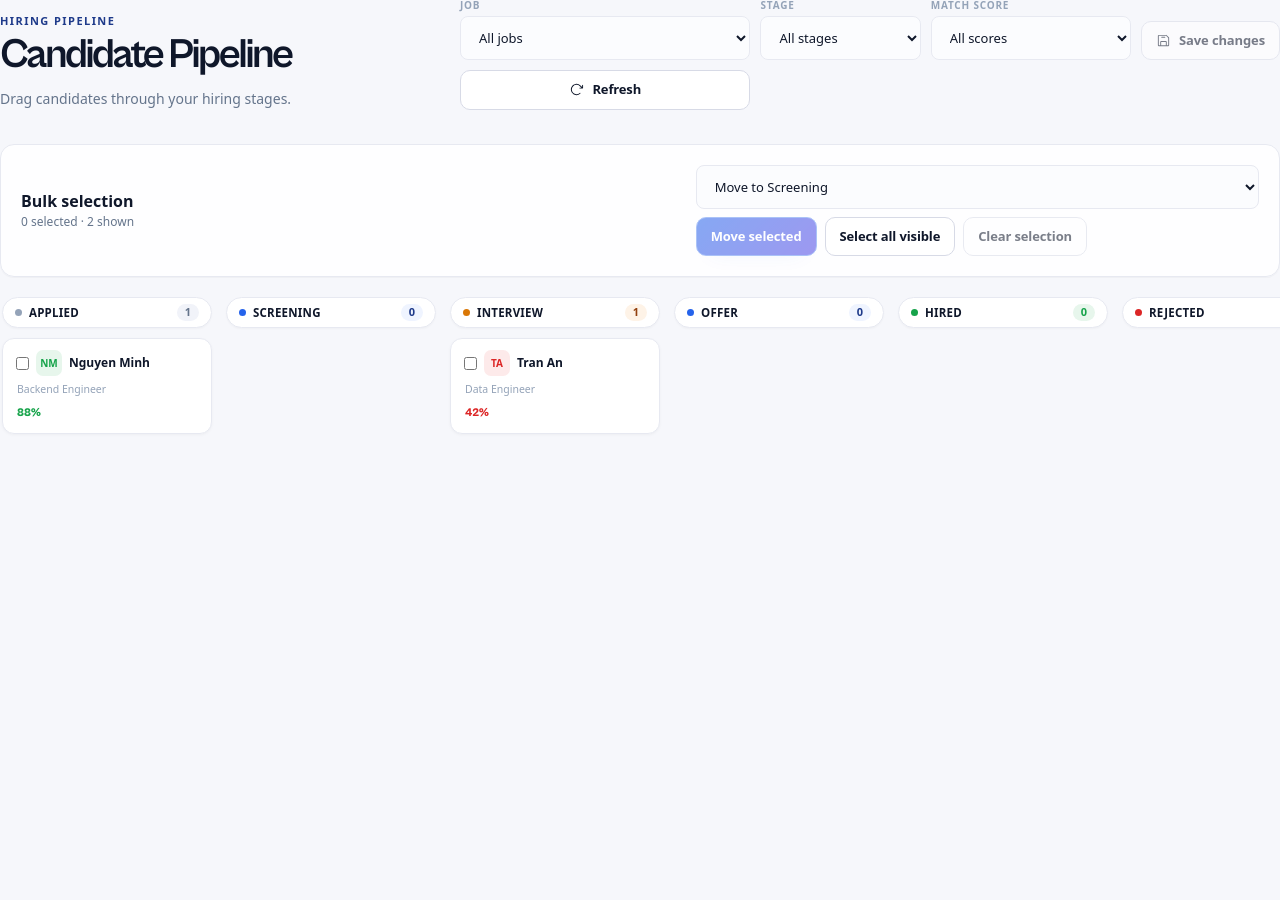
it: PipelineScreen › adds a recruiter note and updates the visible activity
Click the button "NM Nguyen Minh Backend Engineer 88%" at {"x": 107, "y": 386}, box [2,338,212,434]
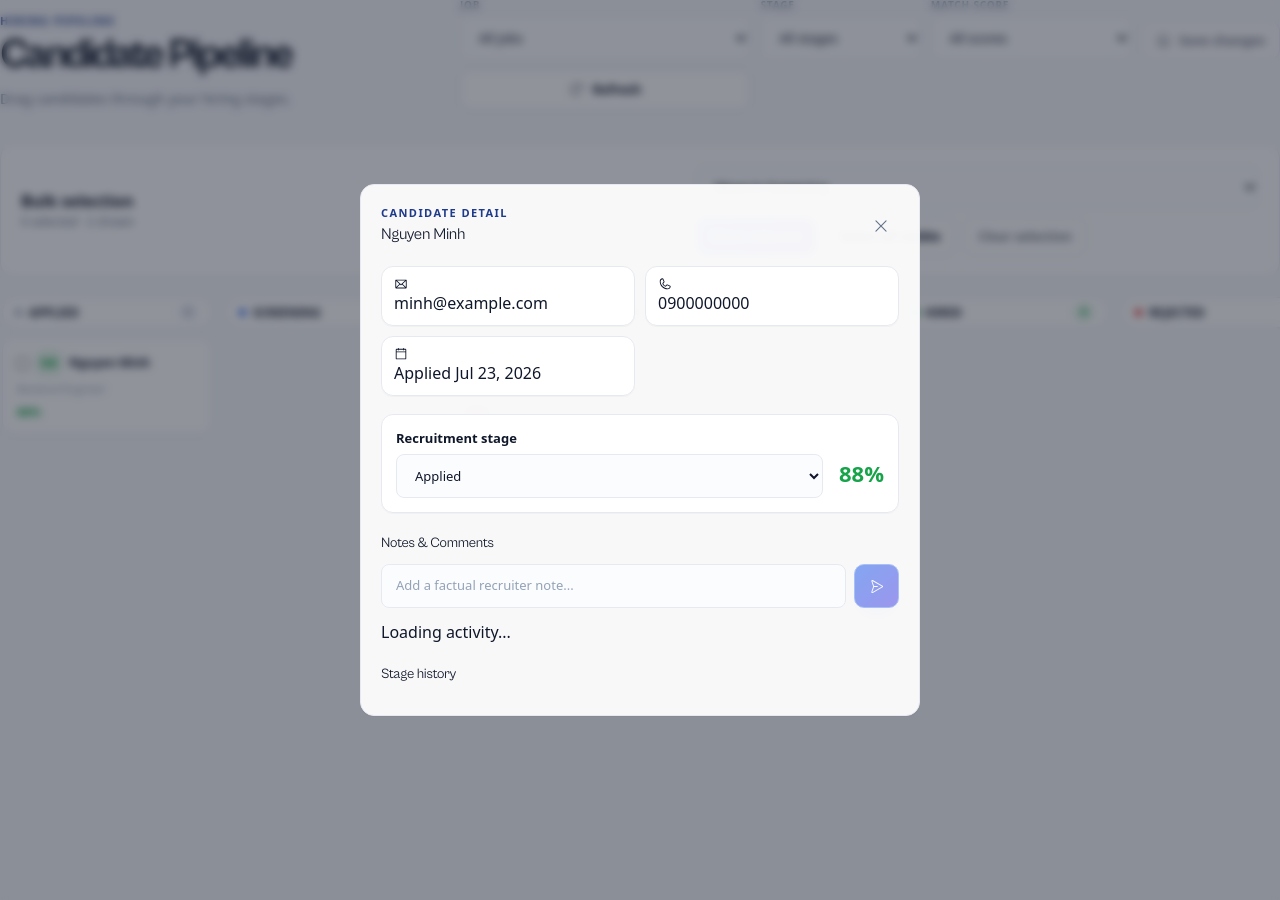
Type "Schedule a technical interview." into the field with placeholder "Add a factual recruiter note..." at {"x": 614, "y": 586}, box [381,564,846,608]
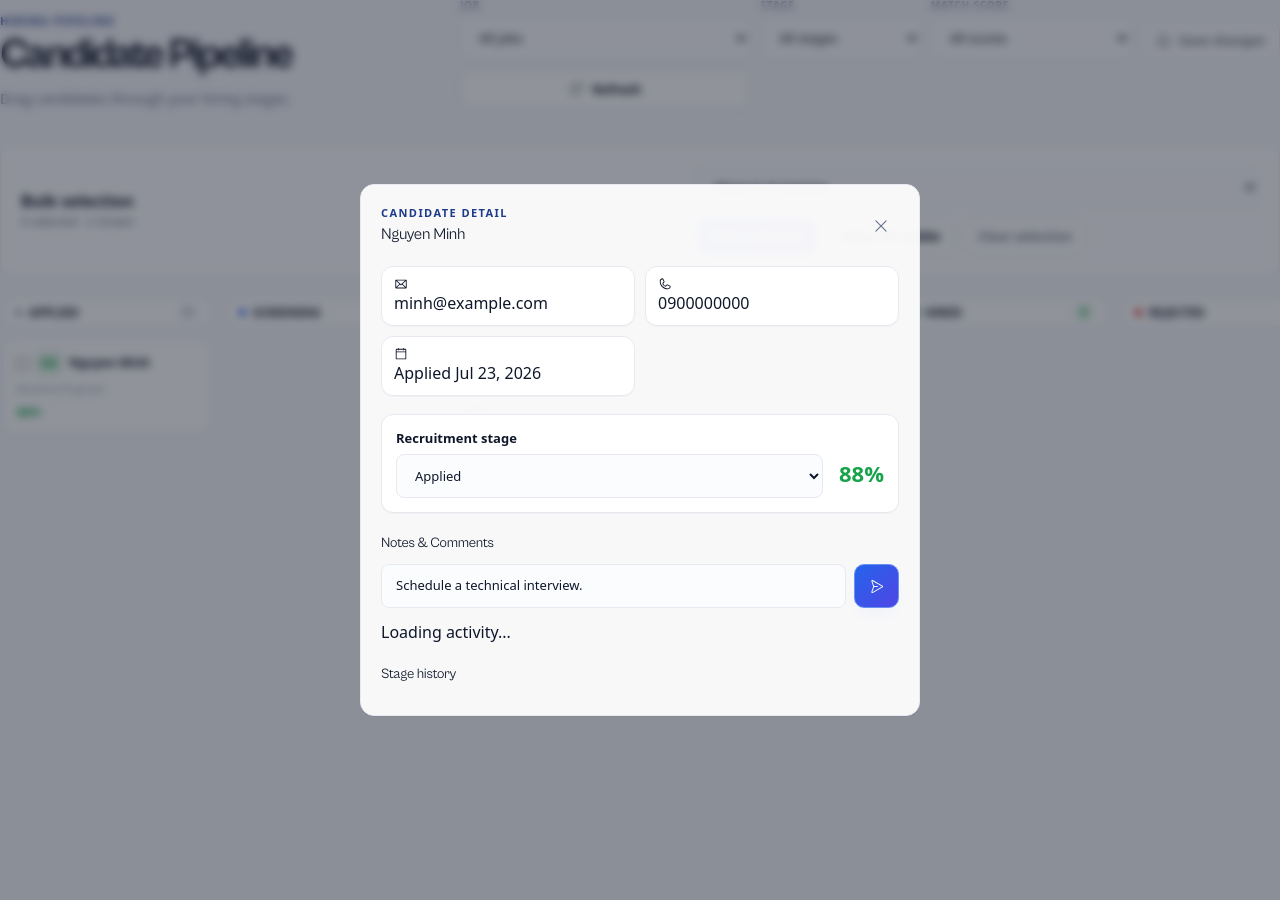
Click the button named "Add note" at {"x": 876, "y": 586}, box [854,564,899,608]
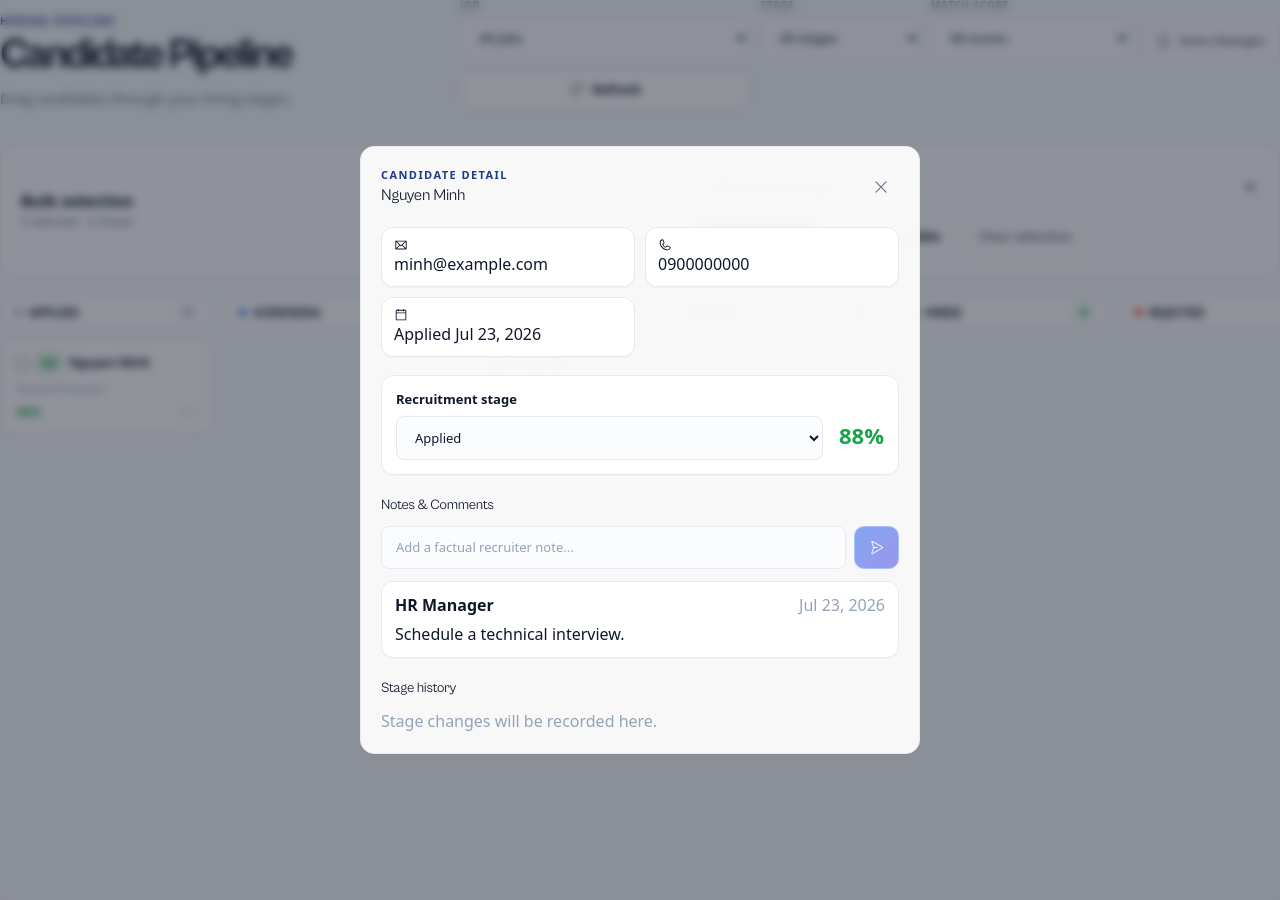
Now the text "Schedule a technical interview." is shown, box [395,623,624,645]
